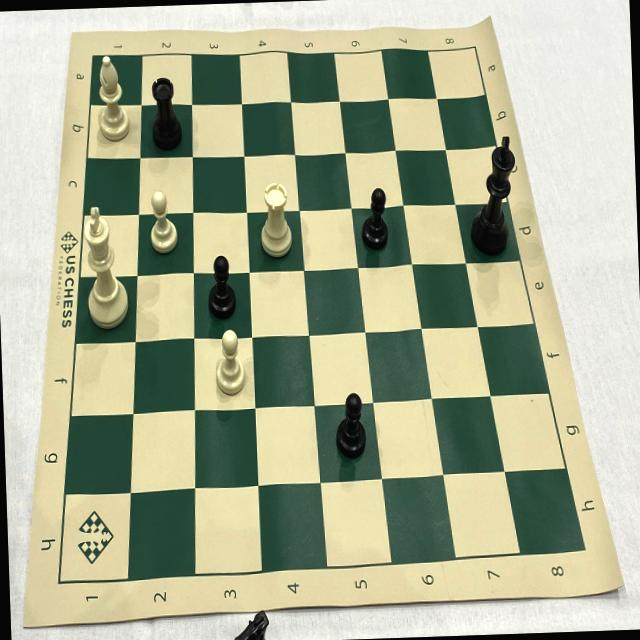black-king: (462, 128, 522, 260)
black-pawn: (330, 381, 370, 464), (202, 250, 240, 322), (358, 180, 392, 258)
black-rook: (144, 72, 184, 154)
white-bishop: (92, 49, 131, 146)
white-king: (76, 201, 134, 335)
white-pawn: (210, 325, 252, 398), (143, 184, 182, 256)
white-rook: (255, 177, 296, 263)
